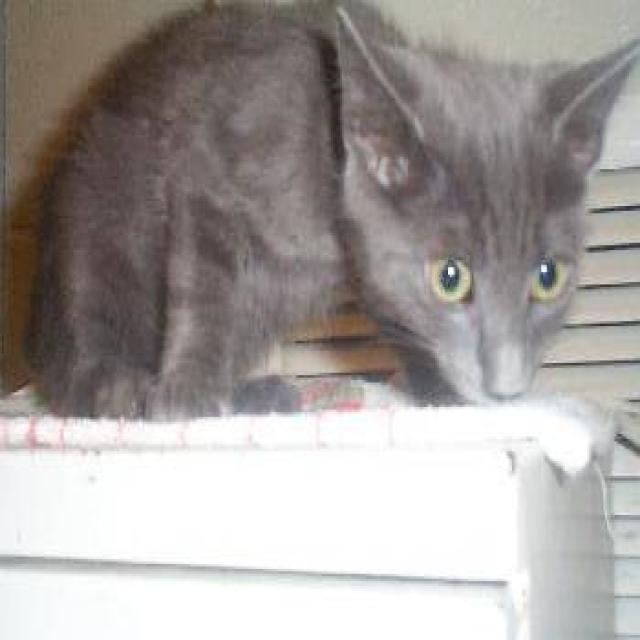cat: (7, 0, 638, 422)
